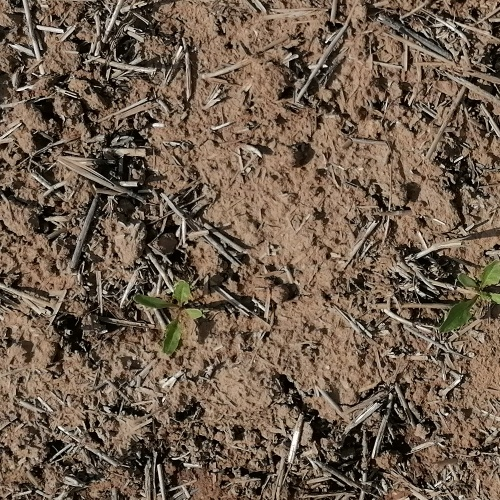beet: (134, 282, 200, 355), (438, 261, 500, 335)
